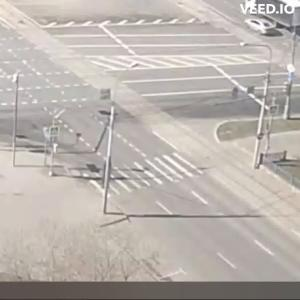car: (246, 19, 278, 39)
